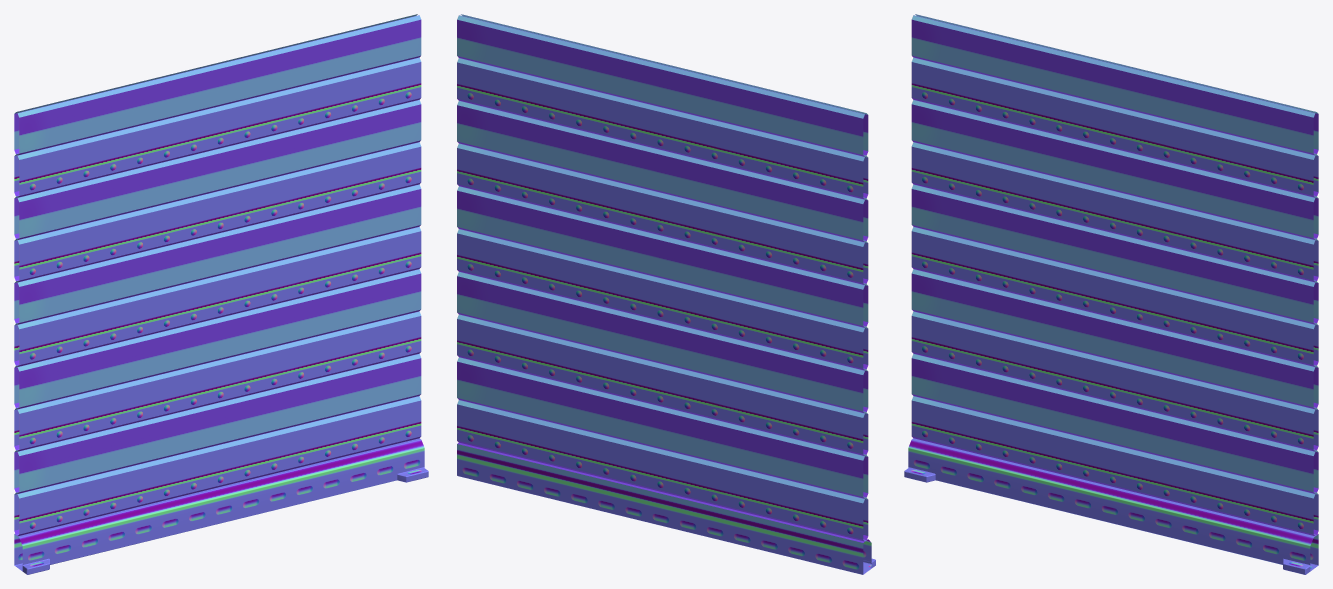
File: sm_shutter_01.fbx
3 views of the same model, side by side, from view 1: azimuth 30°, elevation 25°; view 2: azimuth 150°, elevation 25°; view 3: azimuth 330°, elevation 25° (orthographic).
Parts seen in each view (by area): view 1: sm_shutter_01; view 2: sm_shutter_01; view 3: sm_shutter_01.
Part boxes in pixels (box(x1,y1,x2,y2)): sm_shutter_01: box(14, 14, 428, 574); sm_shutter_01: box(457, 14, 875, 574); sm_shutter_01: box(904, 14, 1318, 574).
Size of the model in its own units: 264 by 285 by 14.76.
Materials: 1 (1 with a texture image).
